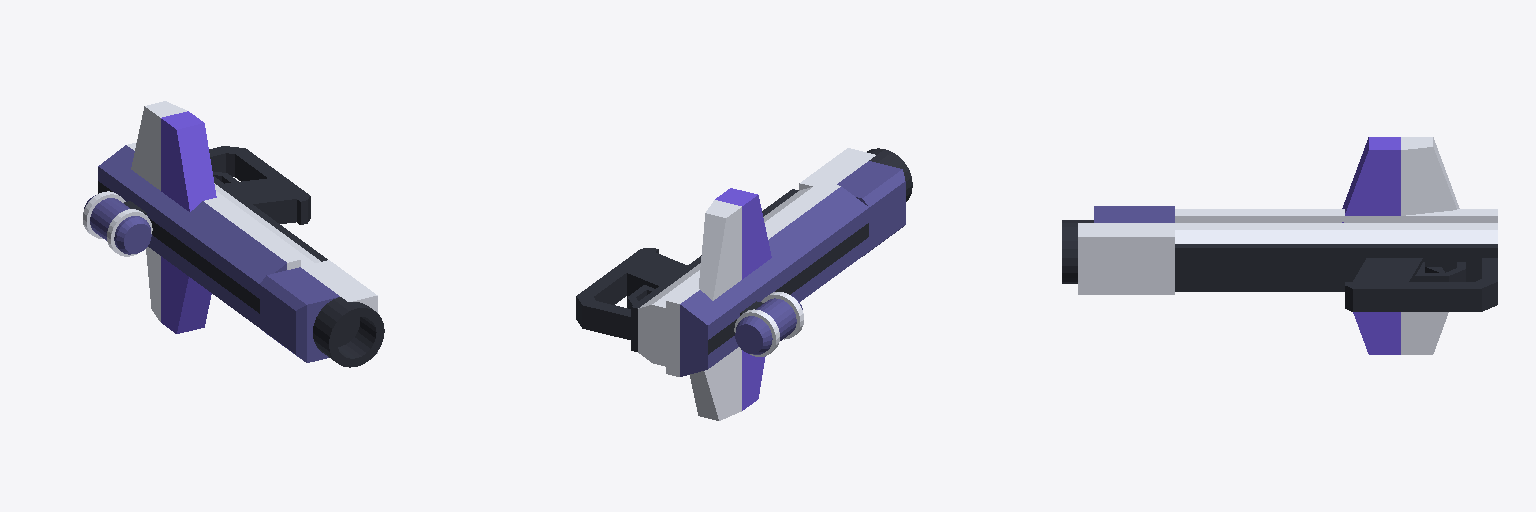
3 renders of one model, left to right at view 1: azimuth 30°, elevation 25°; view 2: azimuth 150°, elevation 25°; view 3: azimuth 270°, elevation 25°, orthographic.
Parts seen in each view (by area): view 1: mergedBlocks; view 2: mergedBlocks; view 3: mergedBlocks.
Boxes of the visible parts, x1=… form: mergedBlocks: x1=83, y1=101, x2=384, y2=367; mergedBlocks: x1=576, y1=148, x2=912, y2=420; mergedBlocks: x1=1062, y1=137, x2=1497, y2=354.
Size of the model in its own units: 0.13 by 0.14 by 0.27.
1 materials, 1 textured.